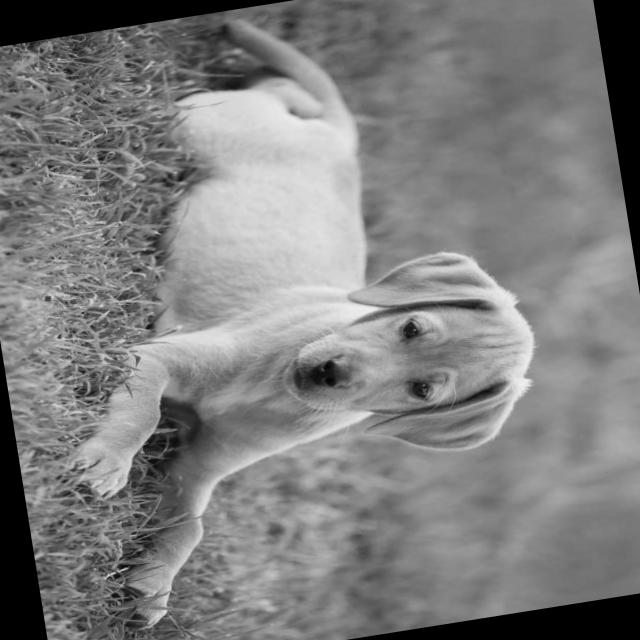laying down: (5, 0, 580, 638)
